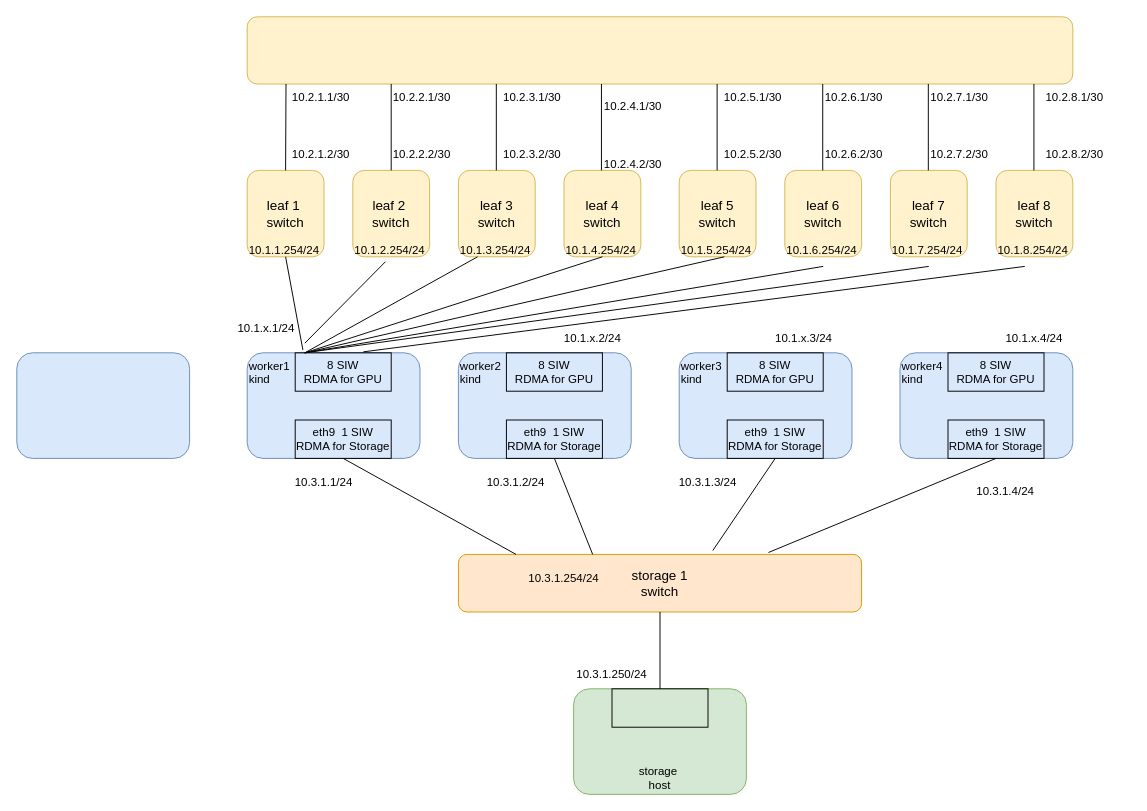
The diagram is 1147 pixels wide and 811 high, and some of its shapes have lost their labels. The centre of each missing label's shape, as x and y in pixels:
"1 SIW RDMA for Storage" goes at (x=659, y=707).
"master1 kind" goes at (x=103, y=405).
"spine 1 switch" goes at (x=659, y=50).
